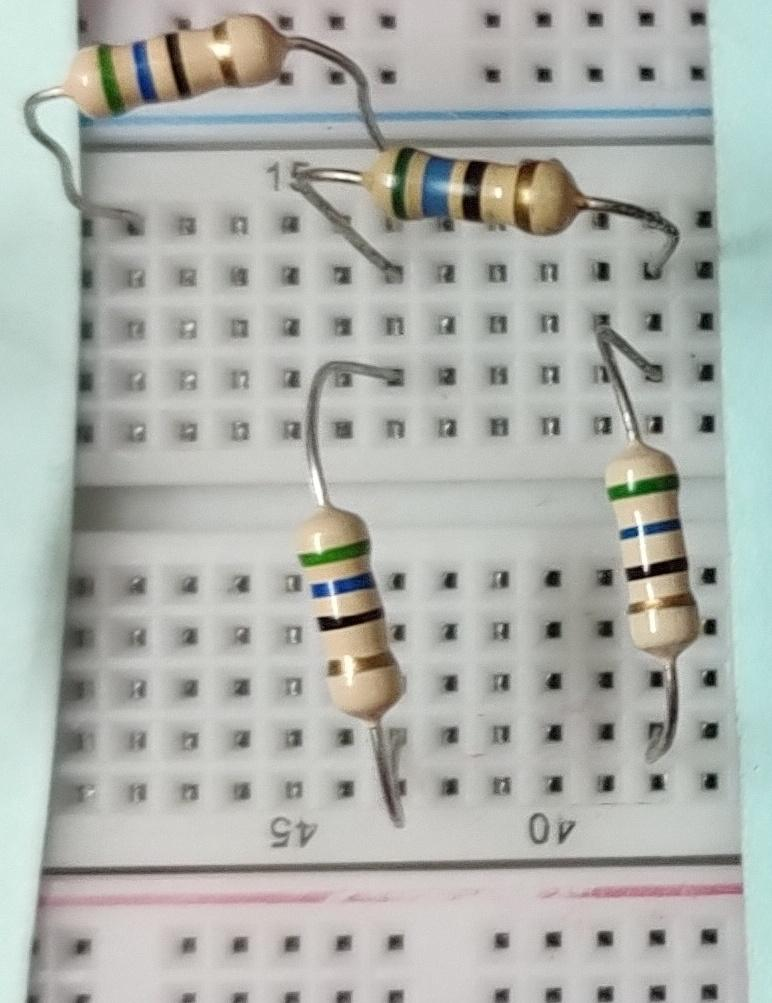resistor: (350, 120, 592, 270), (290, 485, 420, 730), (53, 5, 300, 125), (588, 430, 710, 672)
